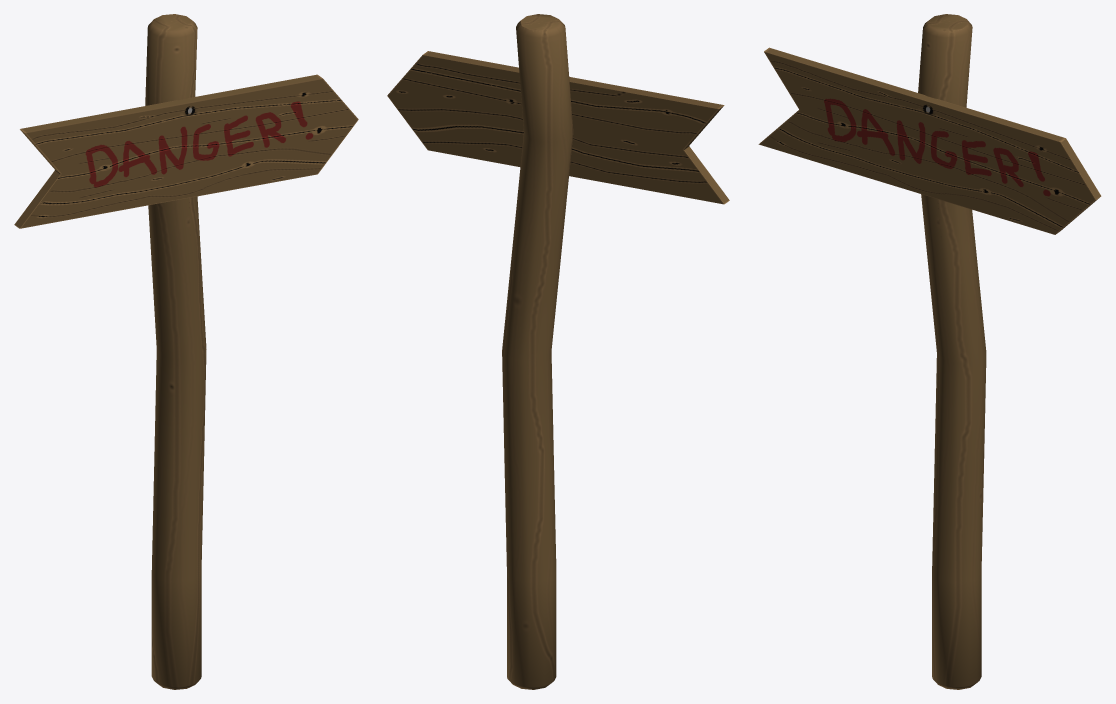
The model's file is SignPost.fbx.
3 views of the same model, side by side, from view 1: azimuth 30°, elevation 25°; view 2: azimuth 150°, elevation 25°; view 3: azimuth 330°, elevation 25° (orthographic).
Visible parts, largest first — view 1: SignPost_LOD0; view 2: SignPost_LOD0; view 3: SignPost_LOD0.
Part boxes in pixels (left/top/right/bottom): SignPost_LOD0: left=14, top=14, right=358, bottom=689; SignPost_LOD0: left=387, top=14, right=729, bottom=689; SignPost_LOD0: left=758, top=14, right=1101, bottom=689.
Size of what is drawn, in the model's own units: 74.18 by 138 by 12.62.
1 material, 1 textured.
